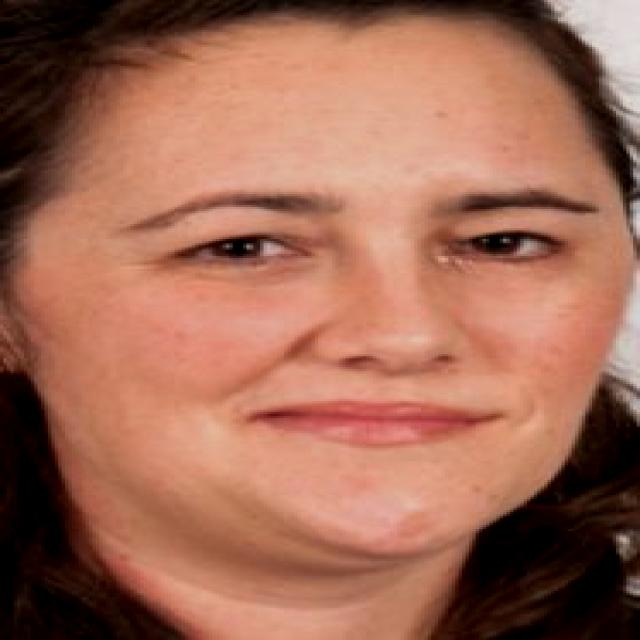normal_face: (0, 7, 620, 562)
